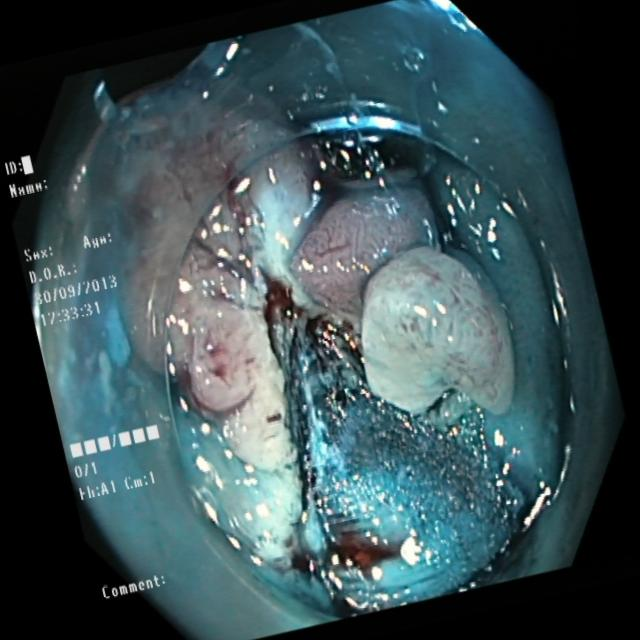dyed-resection-margins: (98, 76, 573, 616)
